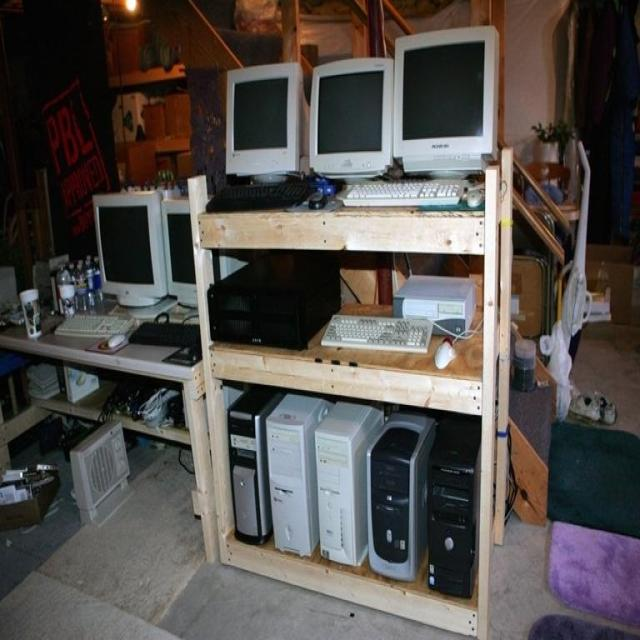E-waste: (207, 375, 465, 606), (218, 14, 497, 211), (194, 262, 486, 367), (65, 163, 195, 363)
